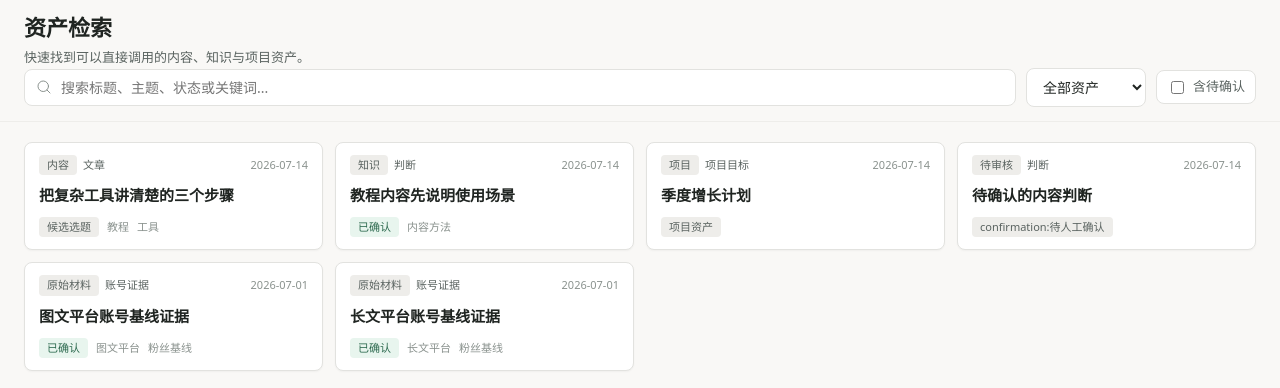
Test: 资产检索 › 搜索与类型筛选命中正确资产，待确认需主动开启，敏感资产始终排除
Expected: the text "教程内容先说明使用场景" is shown, [350,185,515,205]
Expected: the text "等待确认的方法" is not shown
Type "复杂工具" into the field named "搜索资产" at (520, 87), box [24,68,1016,106]
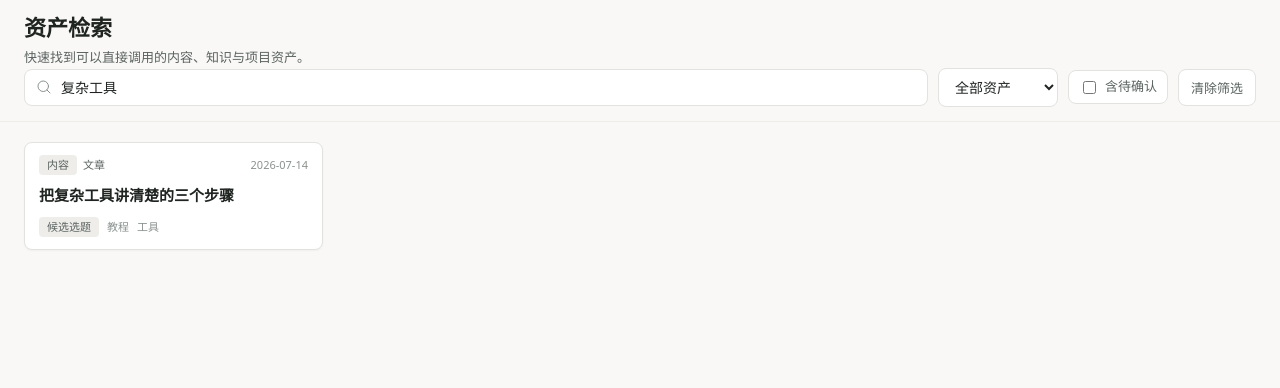
Expected: the text "把复杂工具讲清楚的三个步骤" is shown, [39,185,234,205]
Expected: the button "教程内容先说明使用场景" is gone
Click the button "清除筛选" at (1217, 87), box [1178,68,1256,106]
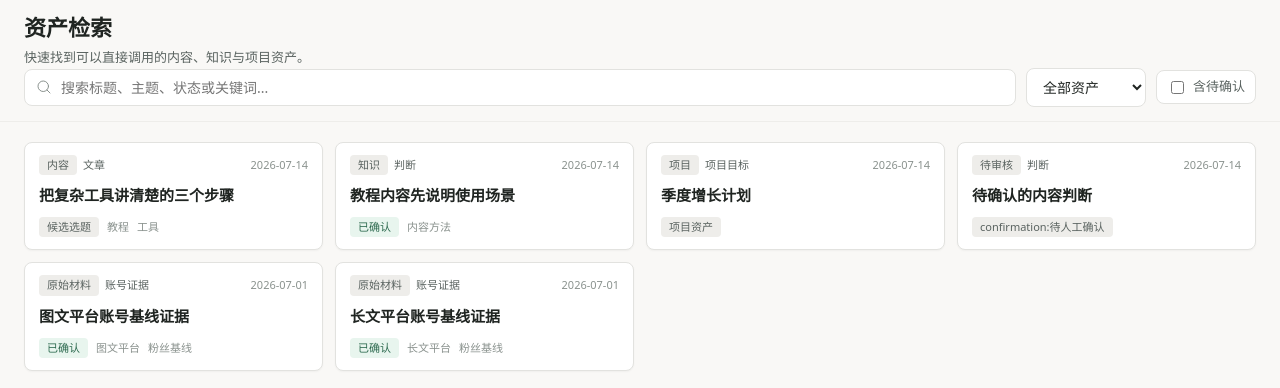
Select "项目" in the dropdown named "资产类型" at (1086, 87), box [1026,68,1146,106]
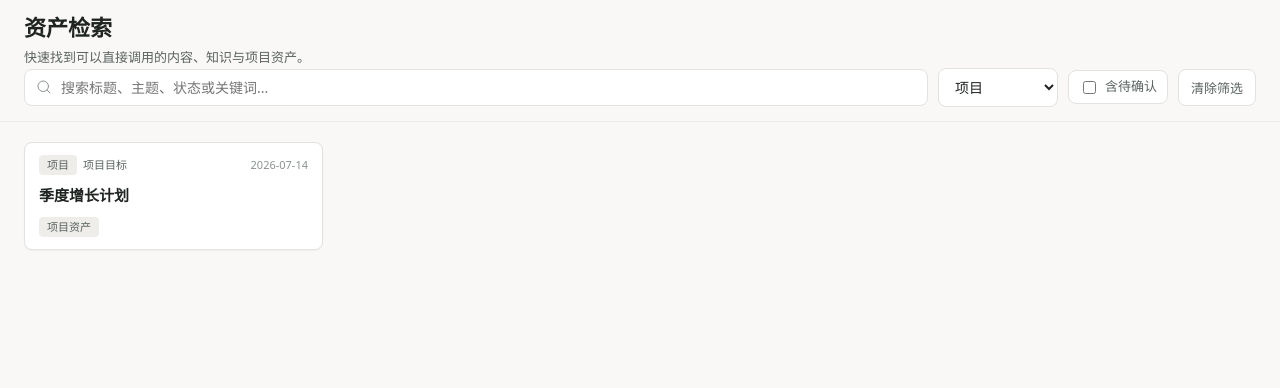
Expected: the text "季度增长计划" is shown, [39,185,129,205]
Expected: the button "教程内容先说明使用场景" is gone
Click the button "清除筛选" at (1217, 87), box [1178,68,1256,106]
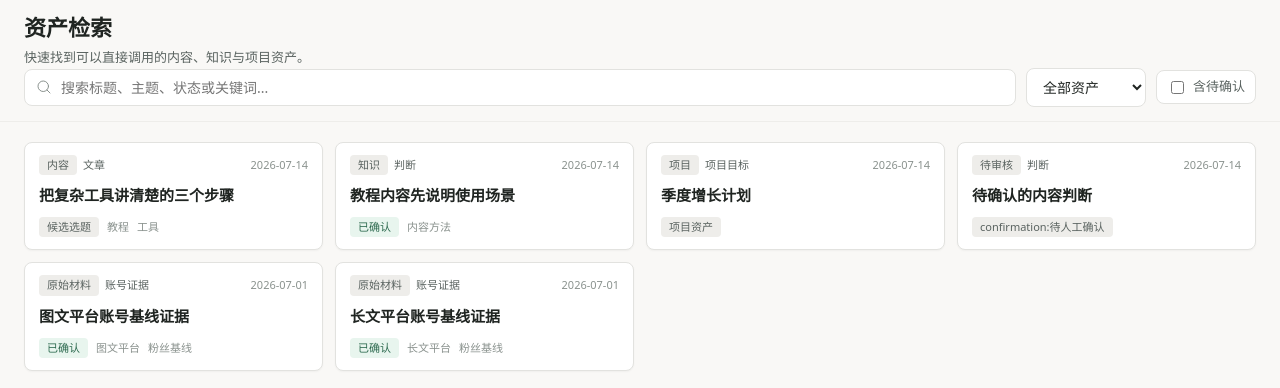
Click the checkbox labelled "含待确认" at (1178, 87), box [1171,80,1184,94]
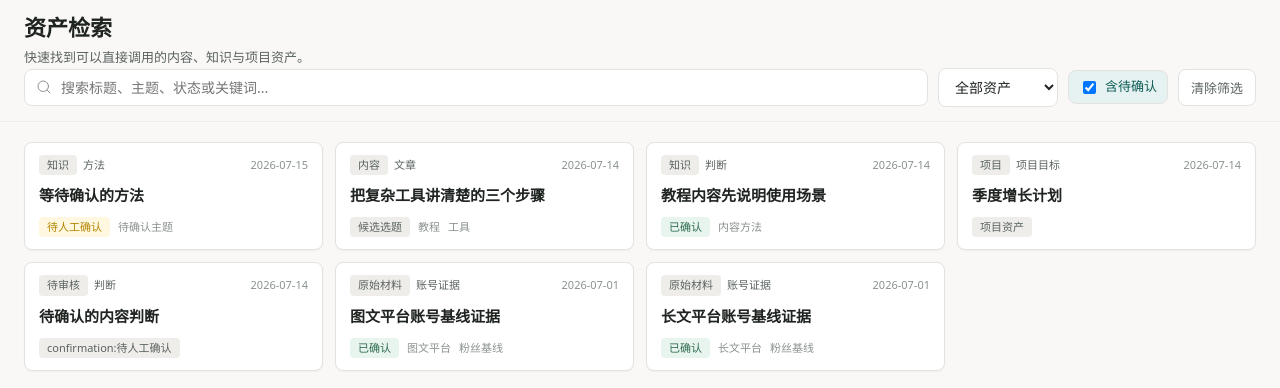
Expected: the text "等待确认的方法" is shown, [39,185,144,205]
